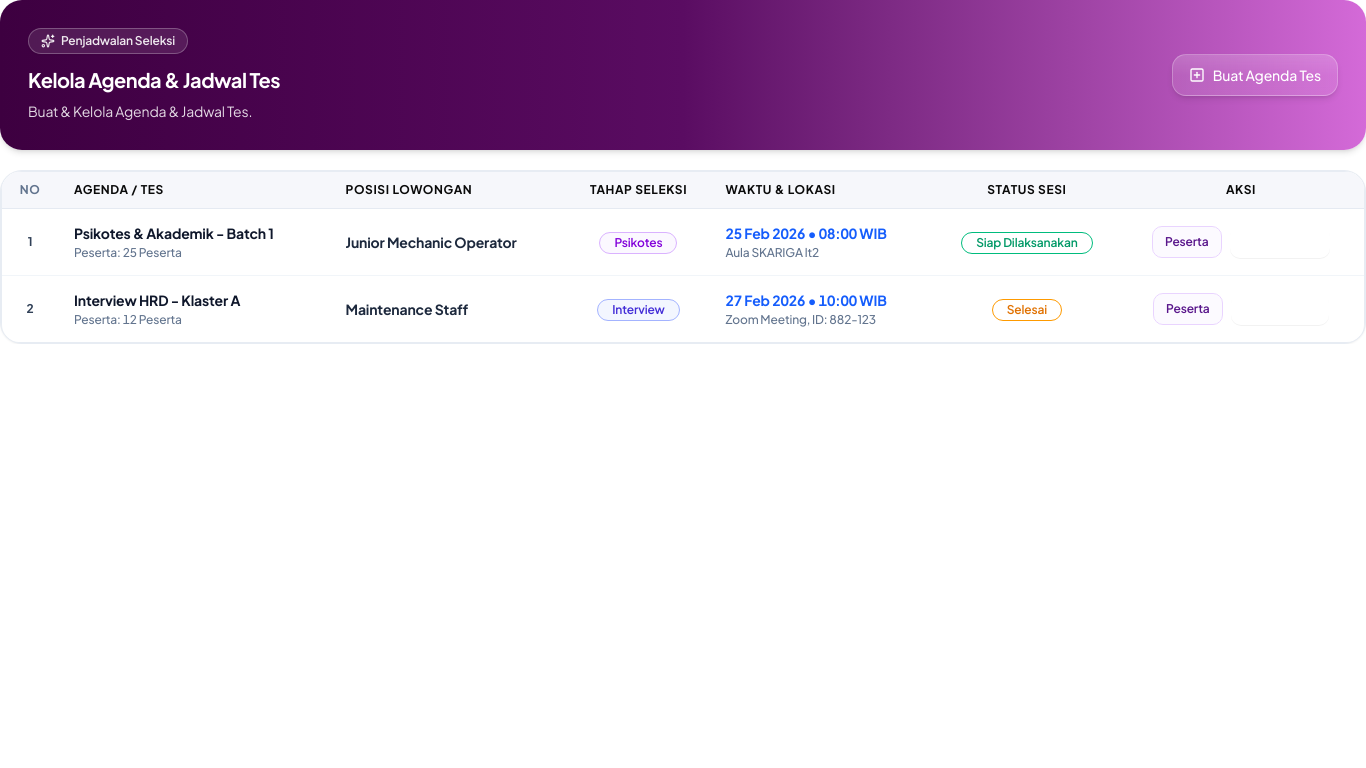
Test case: JadwalPage Integration › resets form inputs when reset button is clicked
Click the button "Buat Agenda Tes".
click(1255, 75)  # box [1172,54,1338,96]
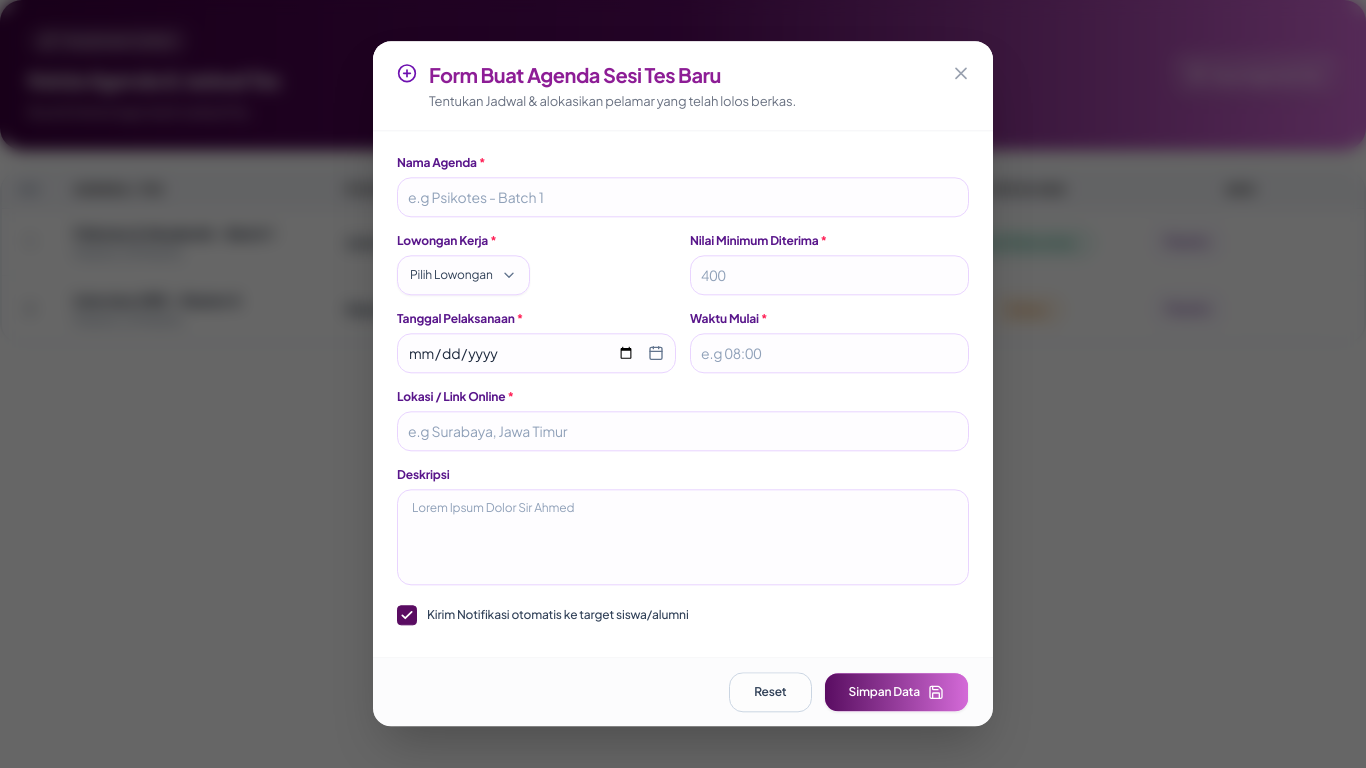
Type "Agenda Draft" into the field with placeholder "e.g Psikotes - Batch 1".
click(683, 198); type("Agenda Draft")  # box [397,178,969,218]
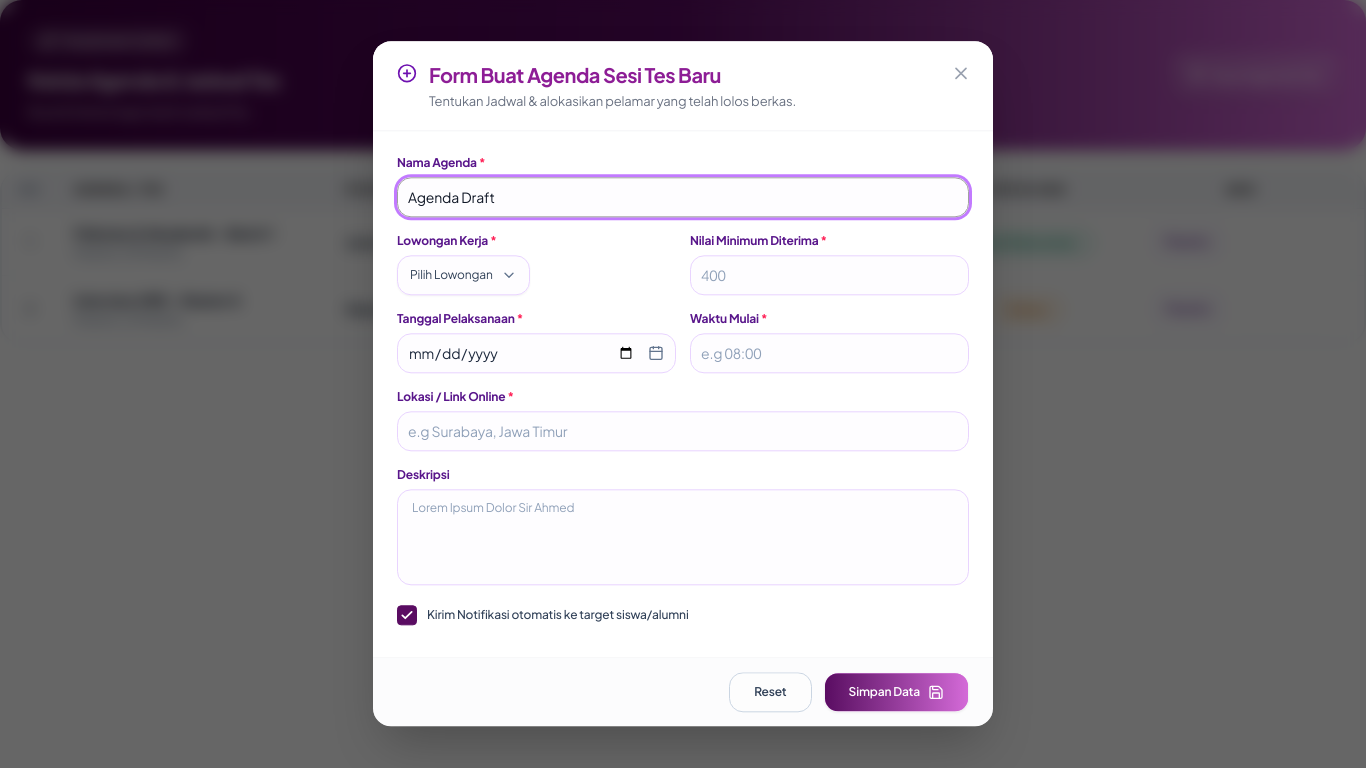
Click the button "Reset".
click(770, 693)  # box [729,673,812,713]
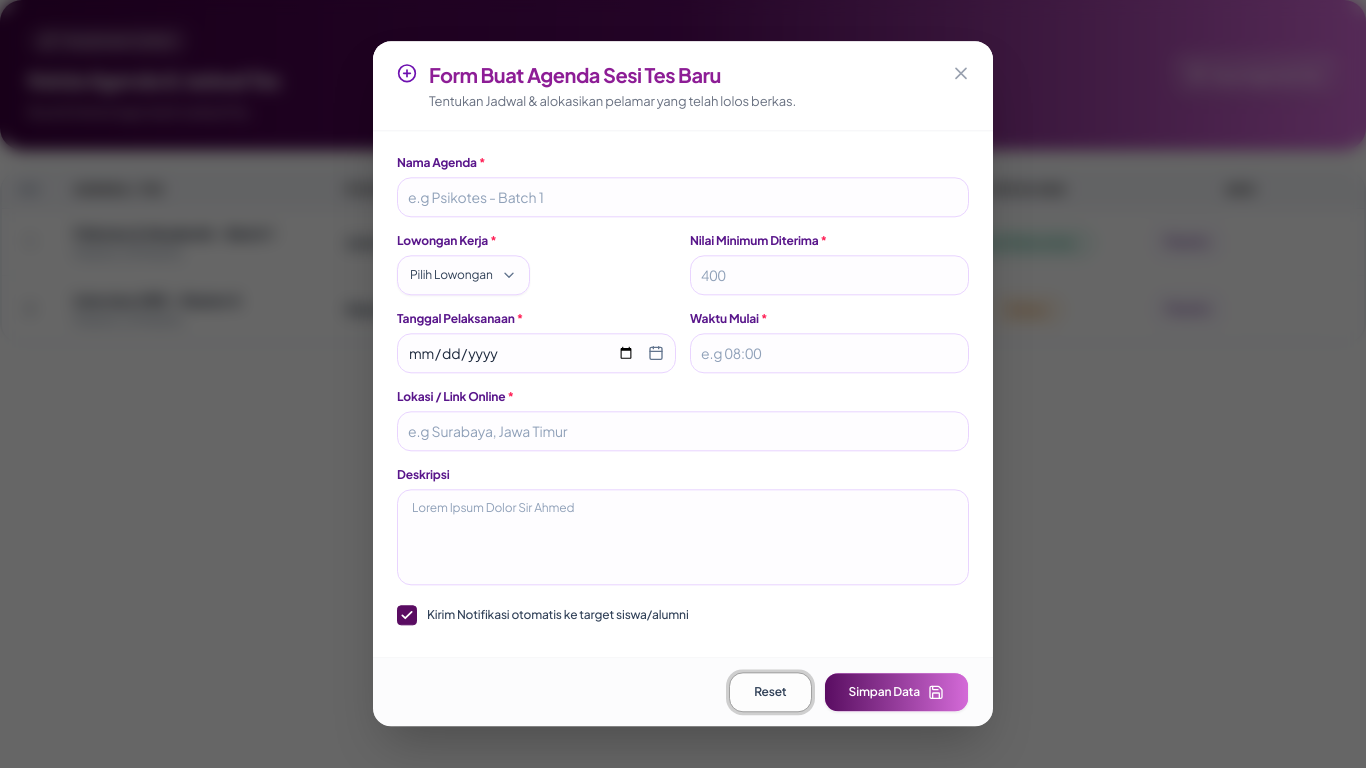
Now the field with placeholder "e.g Psikotes - Batch 1" is empty, box [397,178,969,218]
